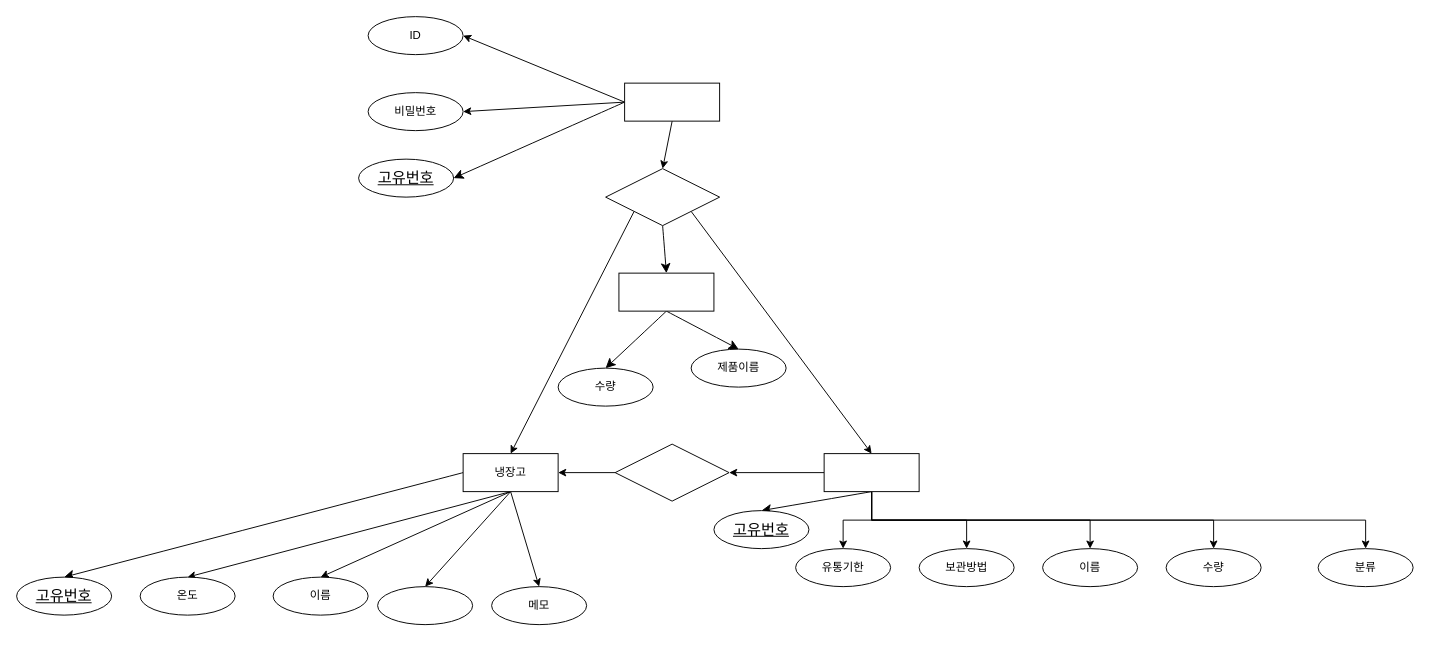
Image size: 1430x649. Some labels were removed from this diagram. Here are the shapes that lost their labels. From the top down, the centre of each, then its label:
point (672, 101): 사용자
point (662, 197): 추가하기
point (666, 291): 장바구니
point (671, 472): 보관하기
point (871, 472): 식품
point (425, 605): 사진
